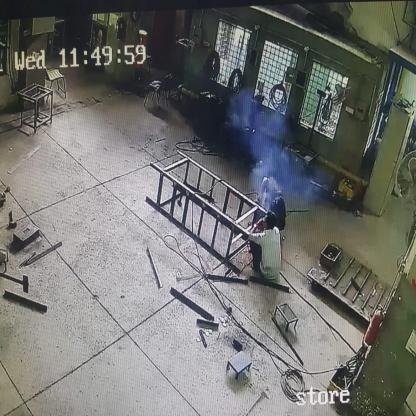smoke: (234, 90, 307, 206)
